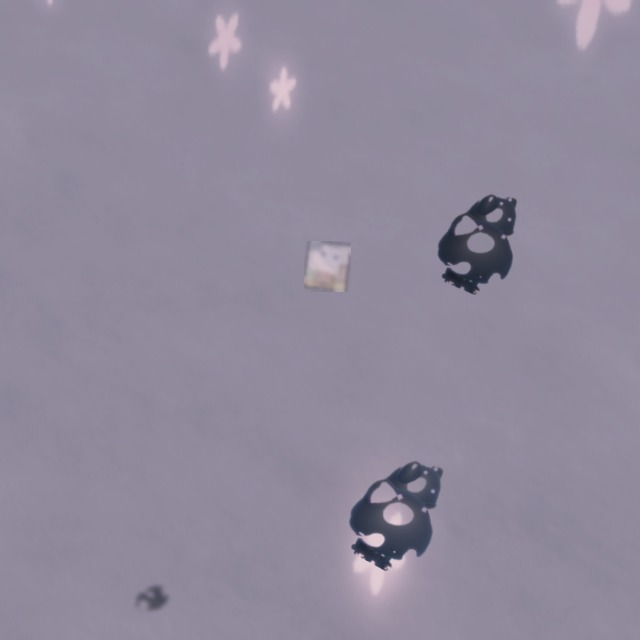urso_branco: (304, 241, 351, 292)
urso_preto: (330, 431, 476, 588), (422, 170, 547, 307), (127, 580, 177, 620)
